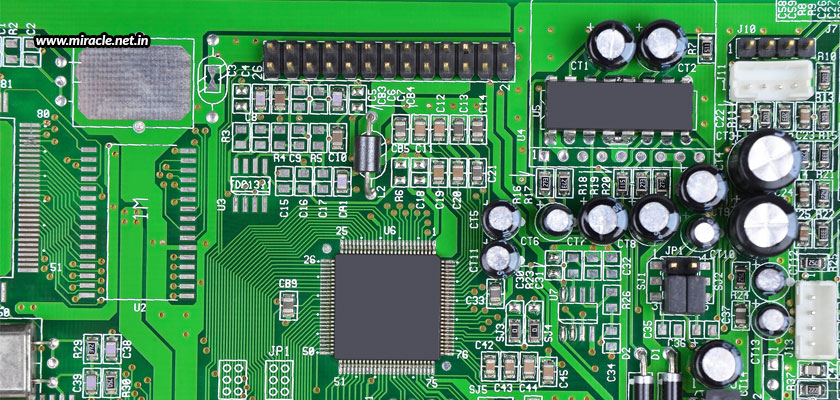capacitor: (731, 128, 803, 189), (740, 194, 802, 257), (638, 14, 693, 72), (696, 335, 755, 389), (587, 13, 636, 72), (579, 191, 627, 244), (635, 189, 673, 247), (681, 162, 726, 209), (482, 195, 523, 236), (537, 195, 573, 240), (477, 241, 522, 273), (753, 303, 790, 336), (753, 262, 786, 295), (690, 220, 719, 250)
